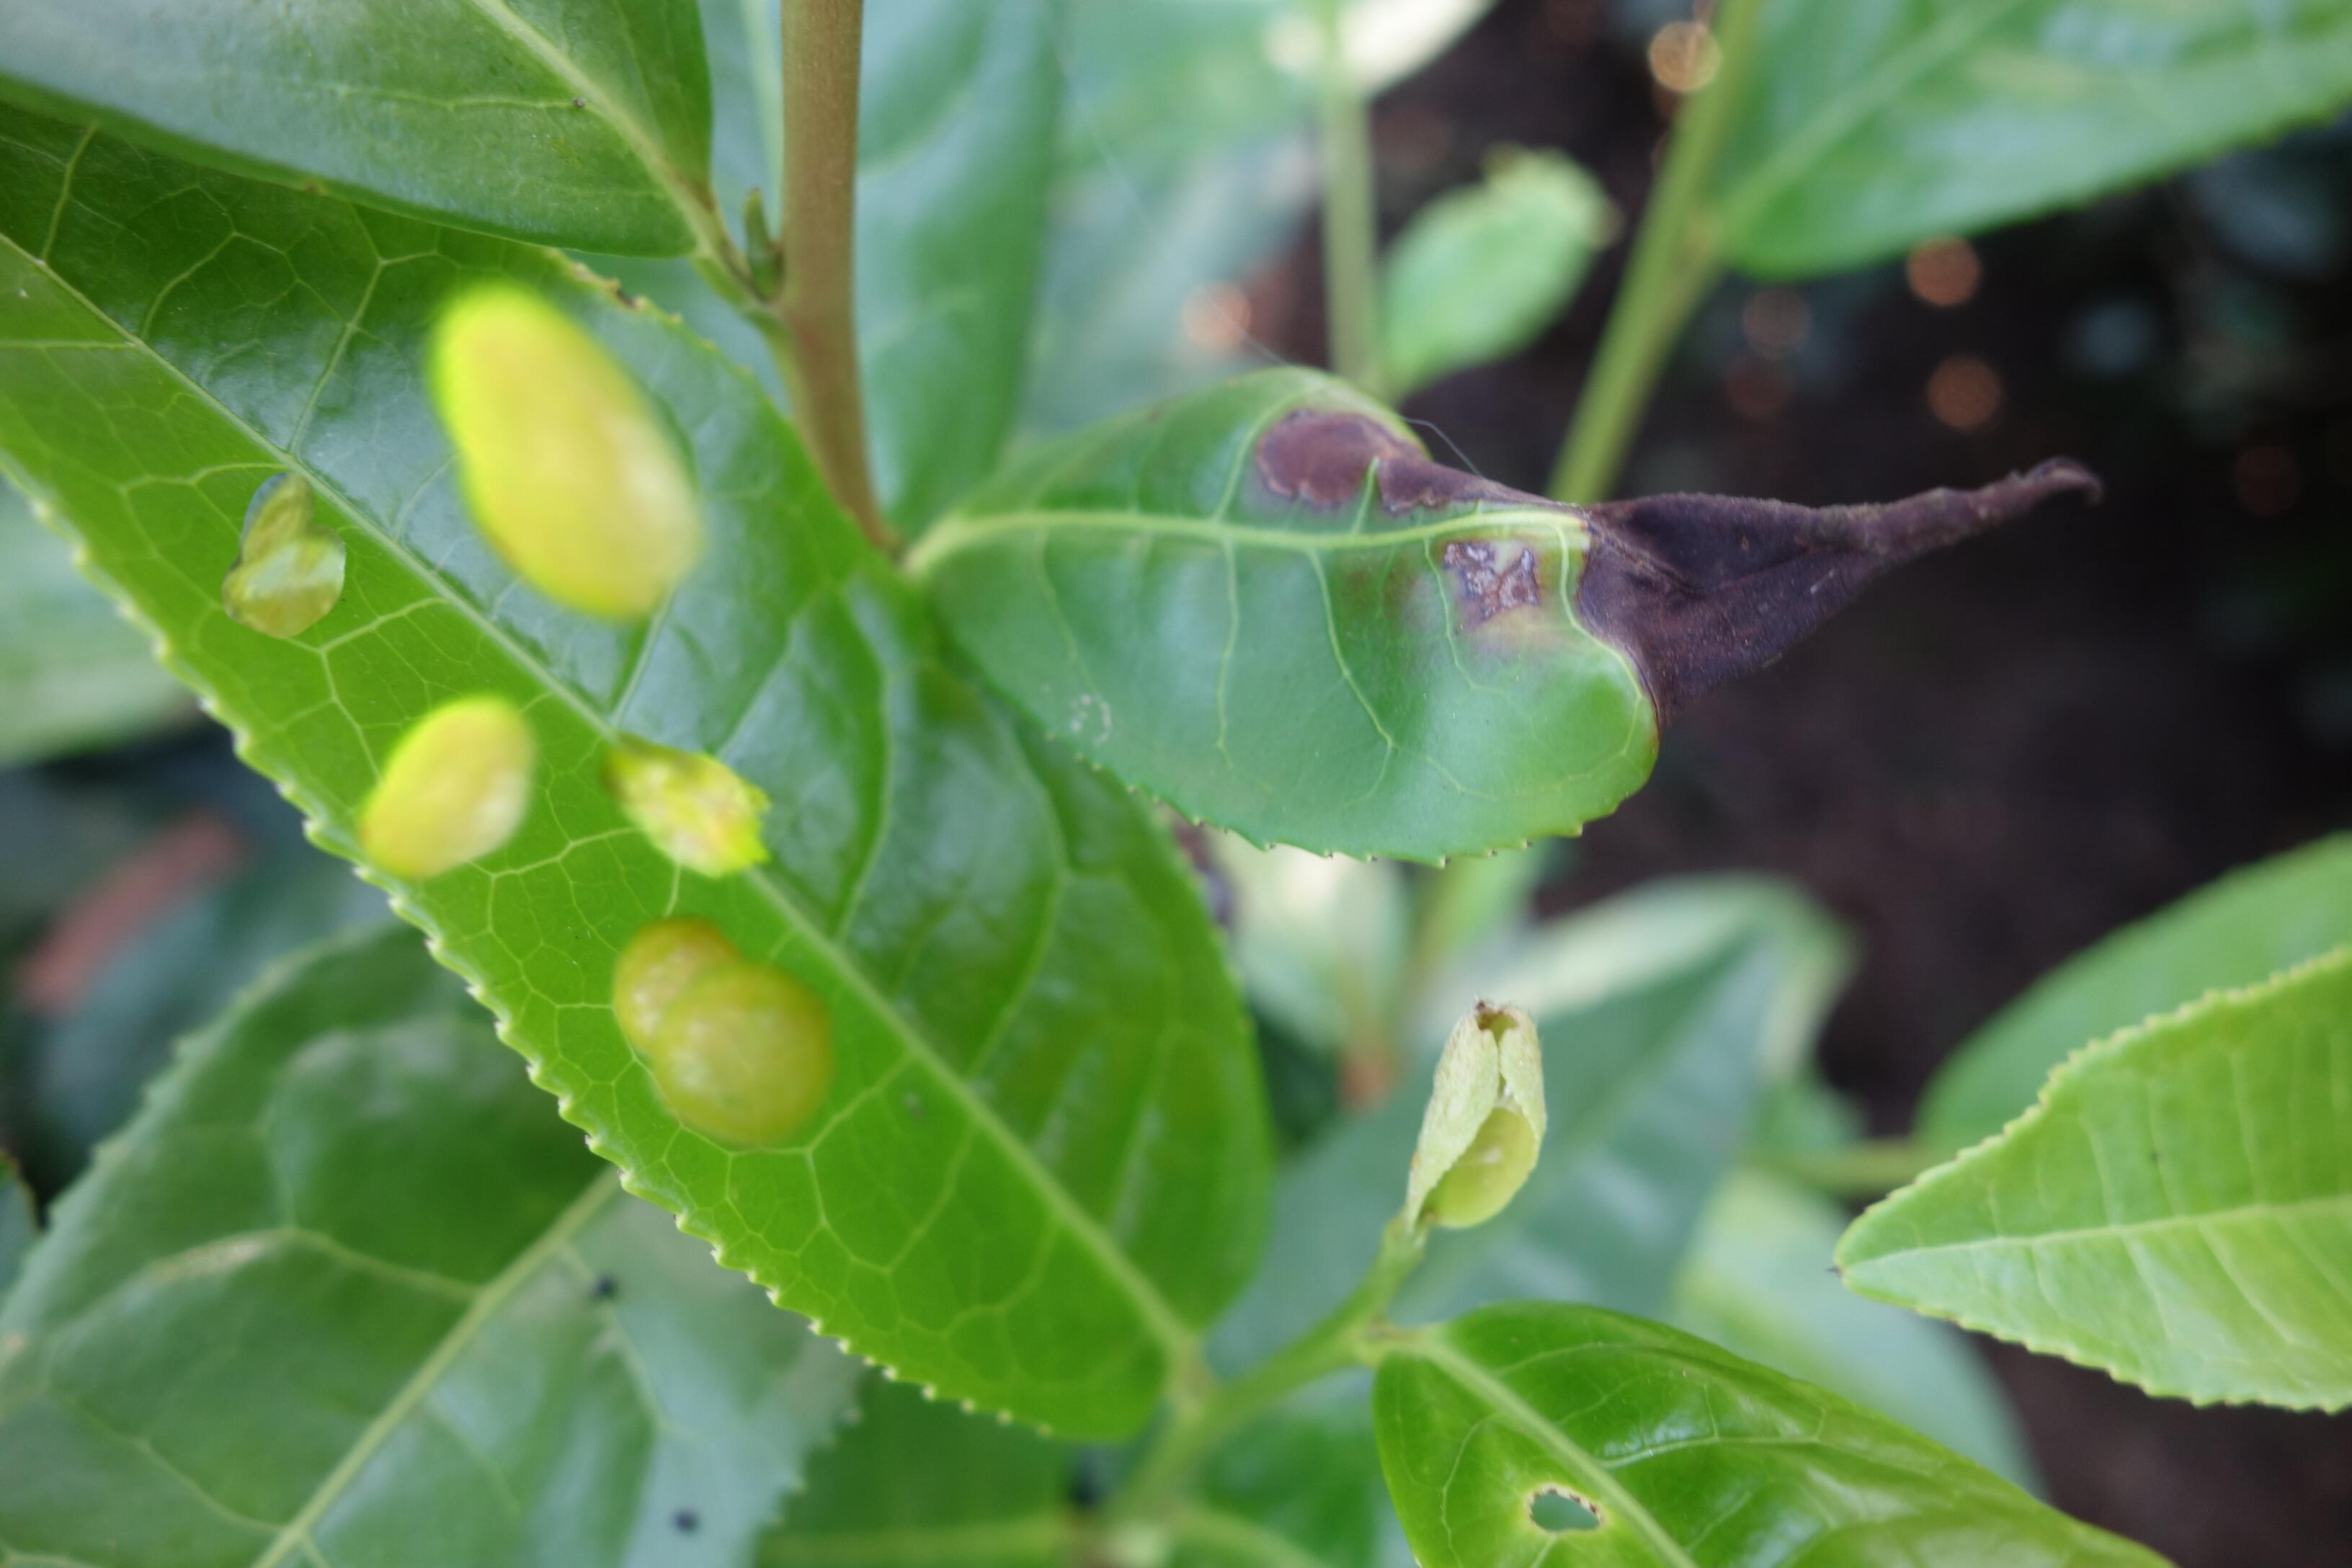chabing_high: (5, 115, 1286, 1449)
chihuo_low: (1372, 1307, 2184, 1564)
healthy: (1820, 943, 2345, 1414)
tanju_high: (910, 357, 2109, 868)
